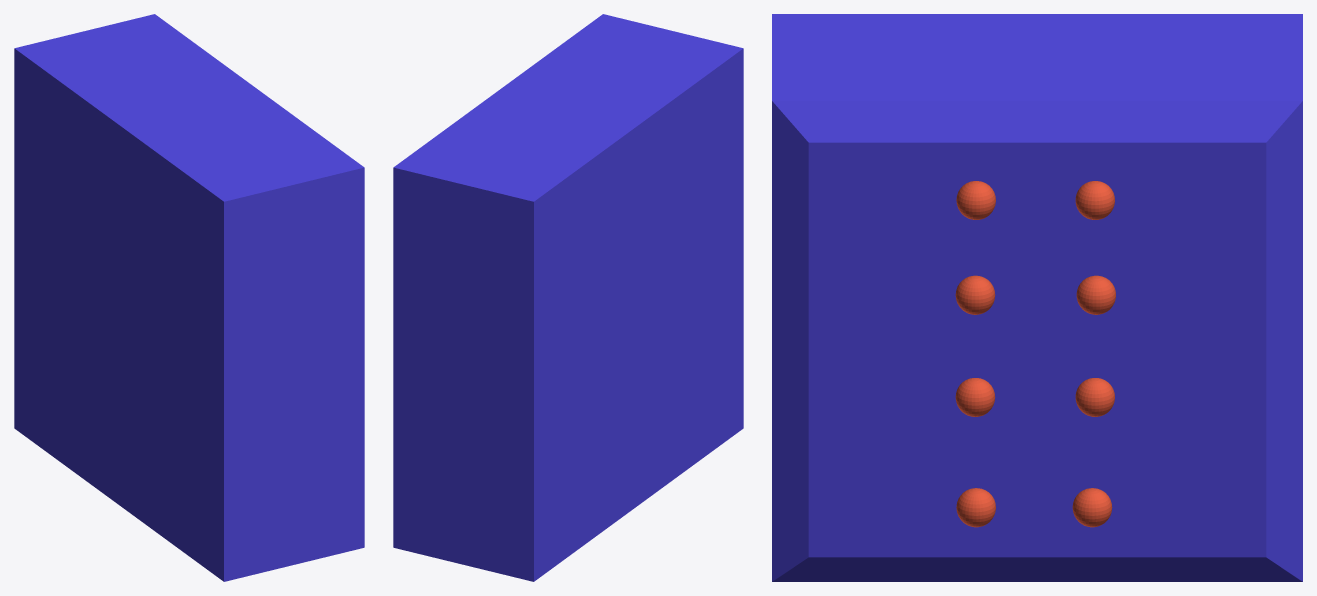
Rendered from ChestOfDrawers.fbx.
3 renders of one model, left to right at view 1: azimuth 30°, elevation 25°; view 2: azimuth 150°, elevation 25°; view 3: azimuth 270°, elevation 25°, orthographic. The views are drawn at different scales.
Parts seen in each view (by area): view 1: Dresser; view 2: Dresser; view 3: Dresser.
Part boxes in pixels (box(x1,y1,x2,y2)): Dresser: box(14, 14, 364, 581); Dresser: box(393, 14, 743, 581); Dresser: box(772, 14, 1302, 581).
Size of the model in its own units: 76.78 by 163 by 163.
